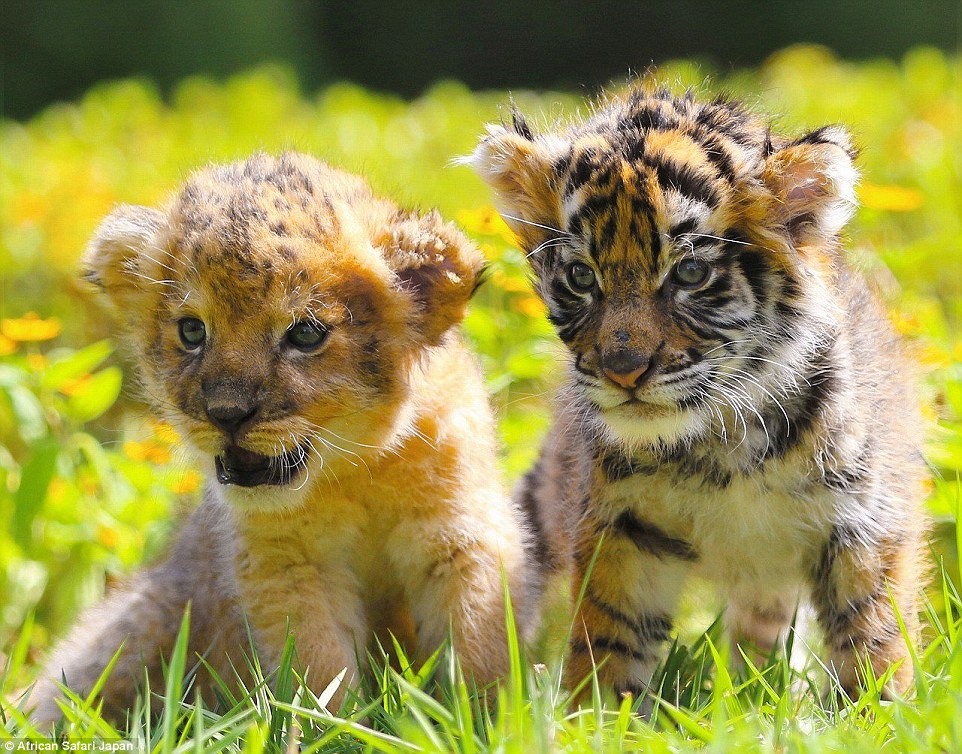lion: (31, 154, 535, 720)
tiger: (463, 81, 935, 729)
